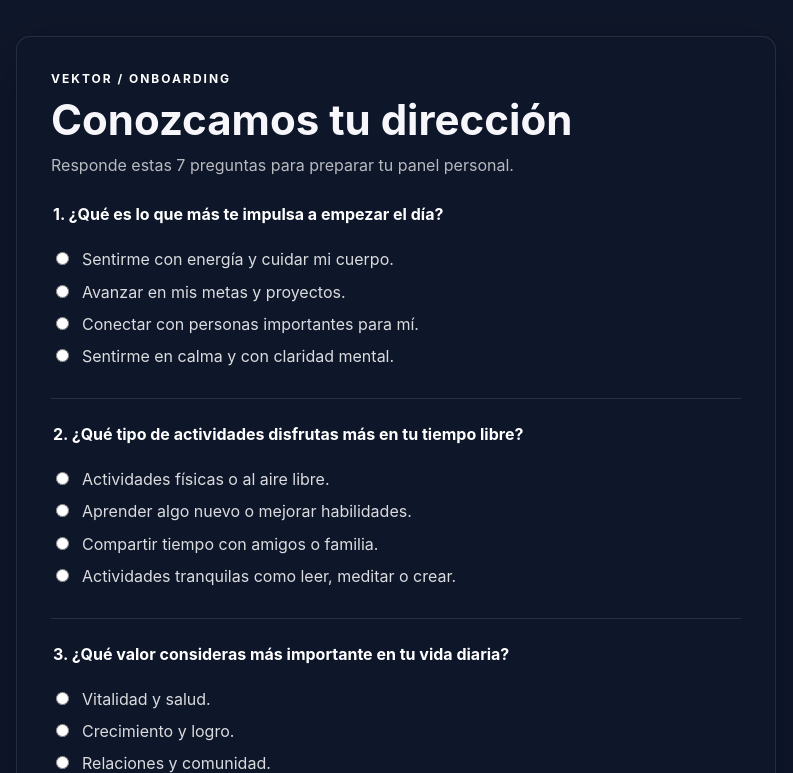
Test: SurveyForm › debe mostrar error cuando no todas las preguntas están respondidas
Note: Responder solo la primera pregunta (no todas)
Click the radio button labelled "Sentirme con energía y cuidar mi cuerpo." at (62,259), box [56,252,69,265]
(page scrolled)
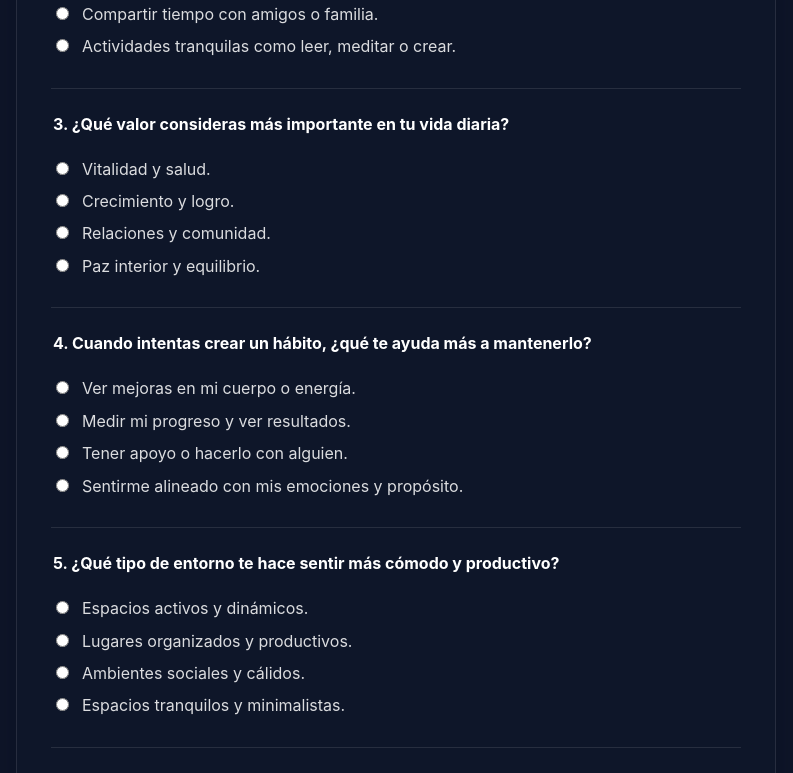
Note: Enviar el formulario directamente para evitar la validación nativa del navegador
Submit the form
(page scrolled)
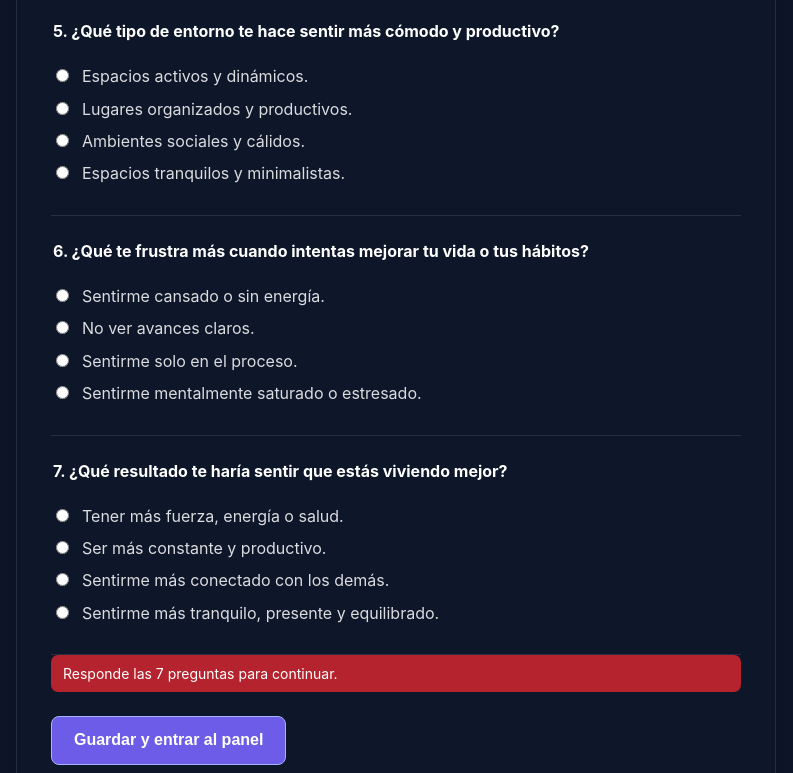
Expected: the text "Responde las 7 preguntas para continuar." is shown, [51,655,741,692]
